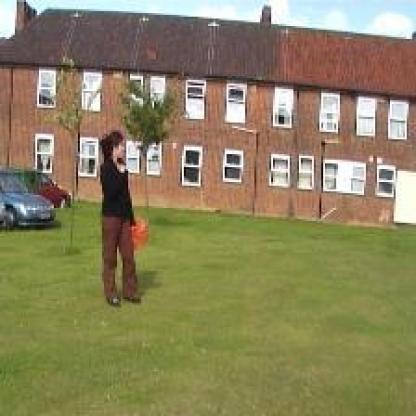other: (126, 213, 152, 250)
